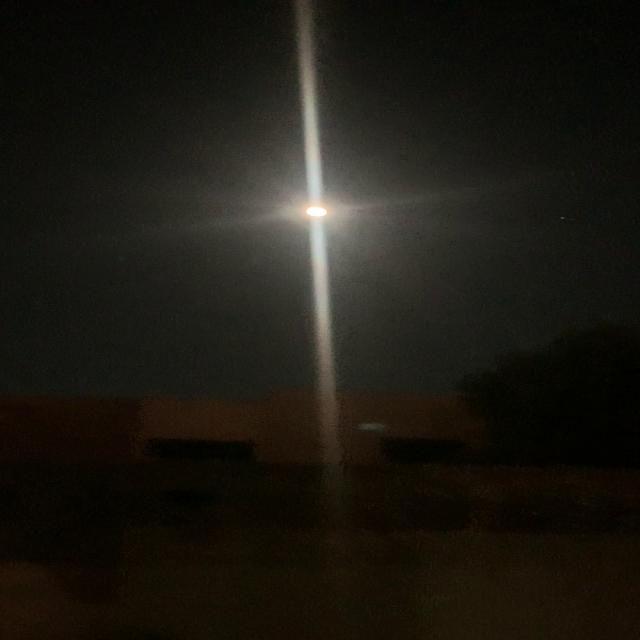moon: (280, 196, 342, 228)
